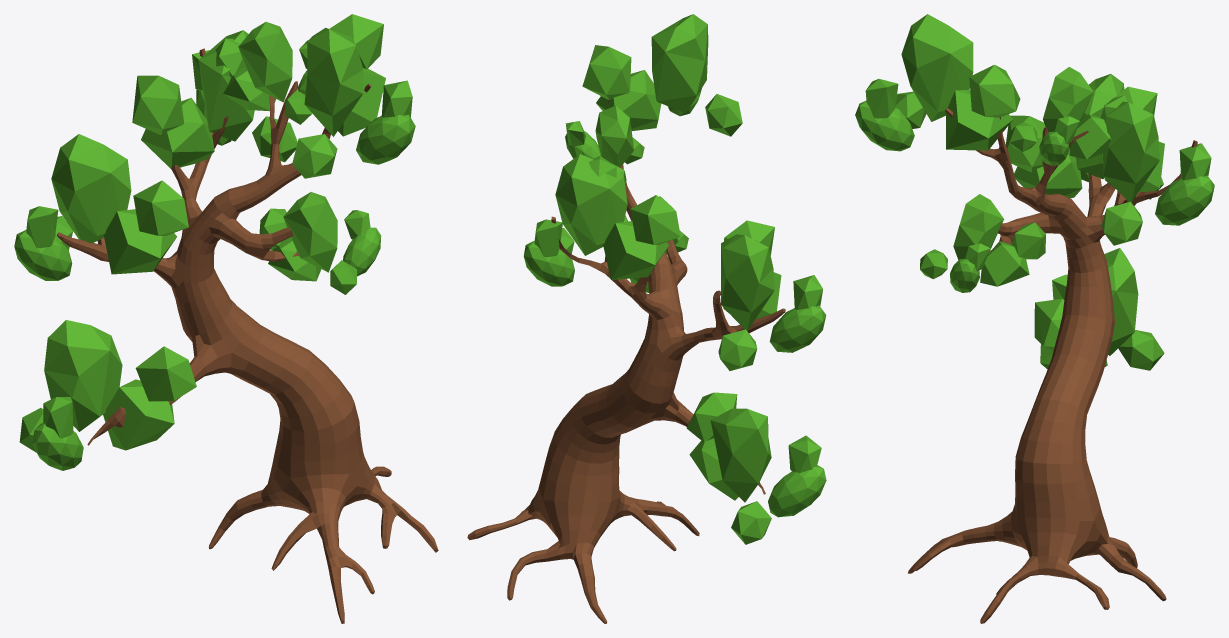
Rendered from Japan_tree_v01.fbx.
3 renders of one model, left to right at view 1: azimuth 30°, elevation 25°; view 2: azimuth 150°, elevation 25°; view 3: azimuth 270°, elevation 25°, orthographic. The views are drawn at different scales.
Visible parts, largest first — view 1: Japan_tree_v01; view 2: Japan_tree_v01; view 3: Japan_tree_v01.
Boxes of the visible parts, left/top/right/bottom form: Japan_tree_v01: left=14, top=14, right=438, bottom=623; Japan_tree_v01: left=467, top=14, right=826, bottom=623; Japan_tree_v01: left=855, top=14, right=1214, bottom=623.
Bounding box in the file's own units: 71.9 × 106 × 61.2.
Materials: 1 (1 with a texture image).
